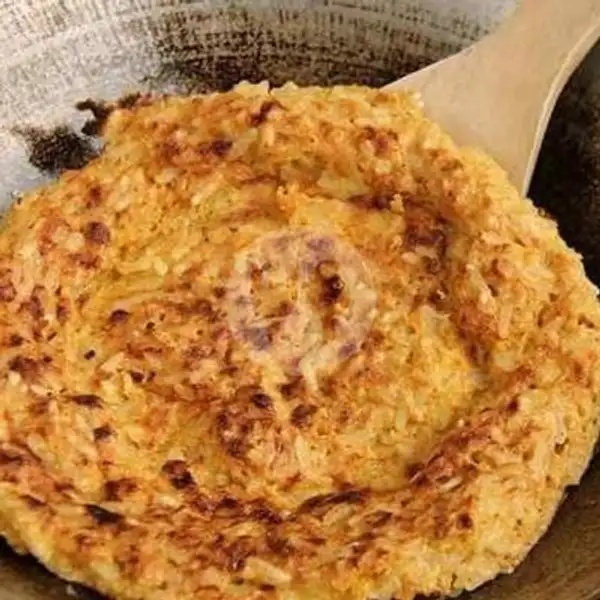kerak_telor: (4, 85, 600, 600)
